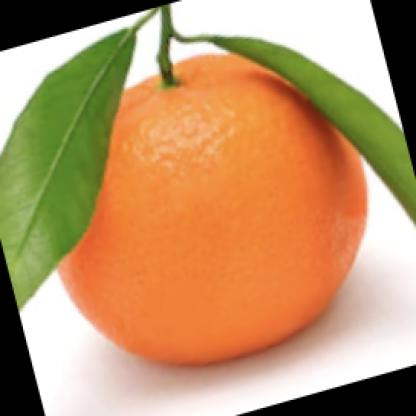orange: (42, 38, 374, 374)
